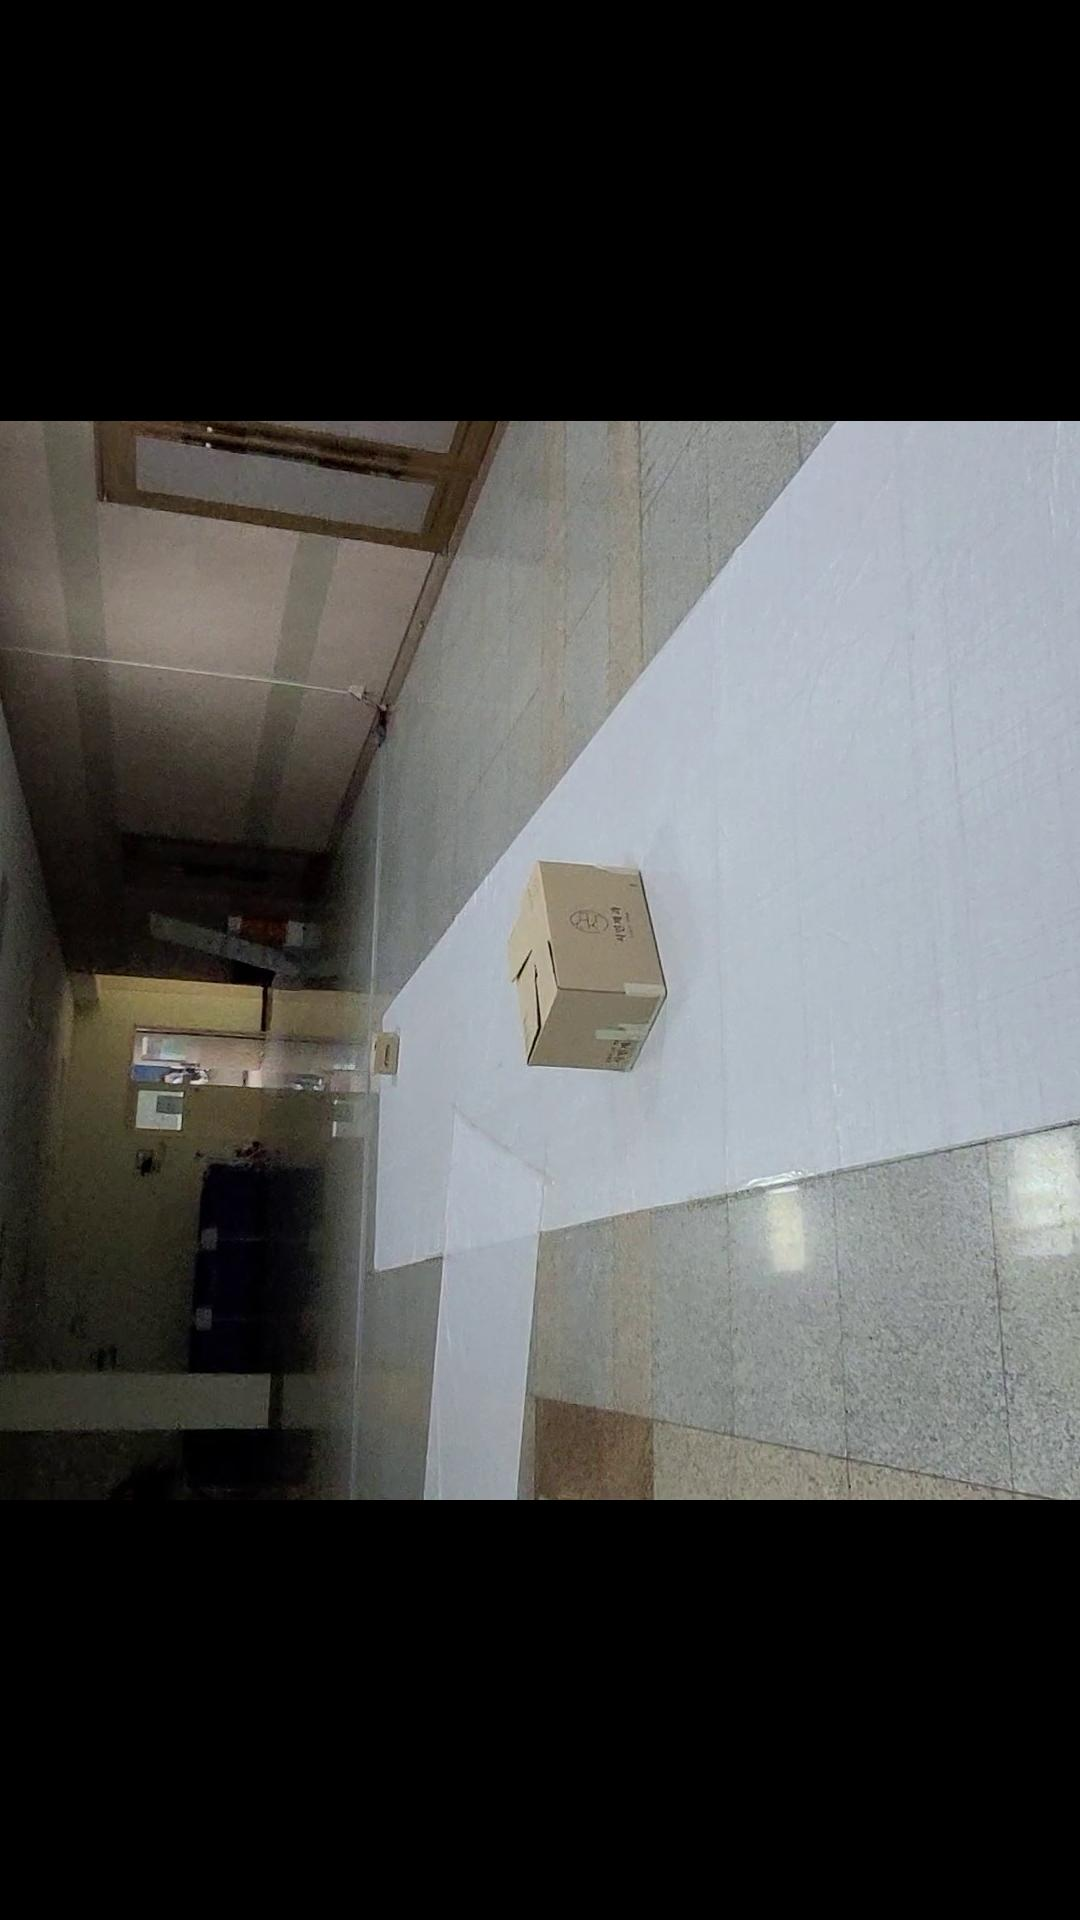Box: (488, 847, 683, 1079), (357, 1027, 410, 1079)
